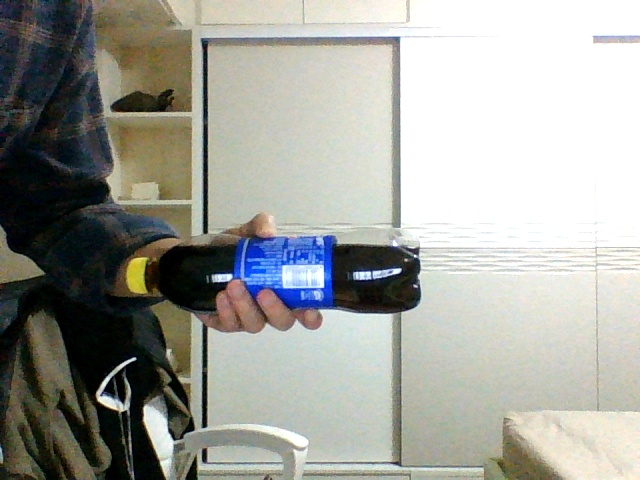Cola: (124, 227, 422, 313)
